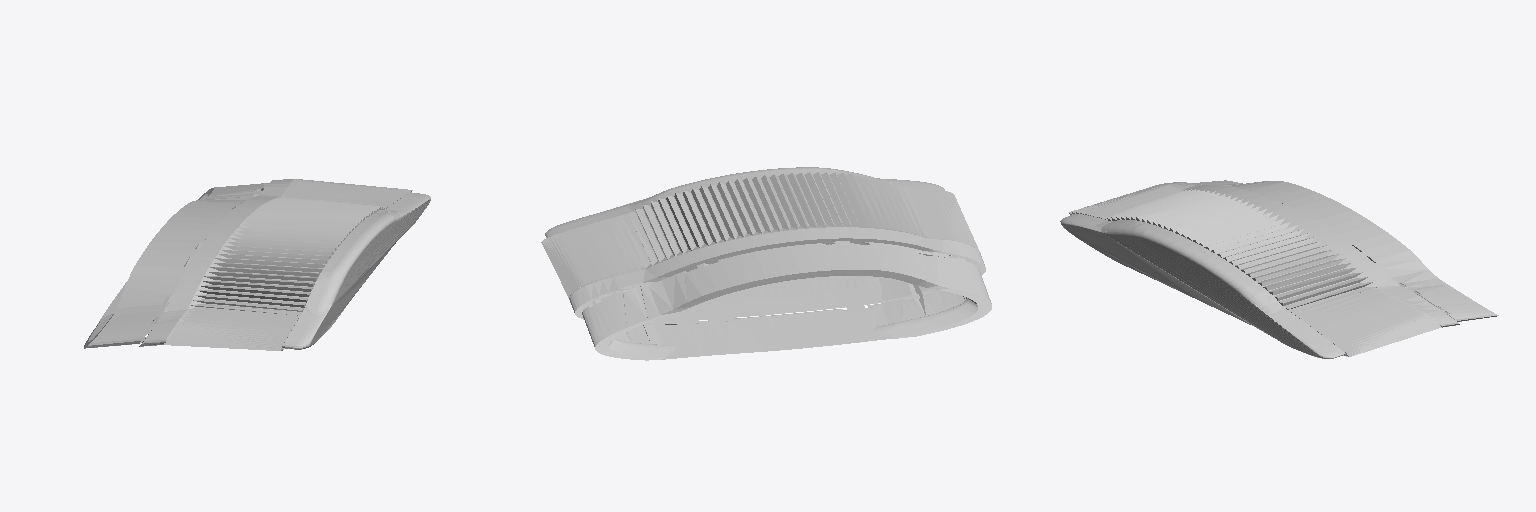
File: bottle_cap_short.003.obj
The picture shows the model from 3 angles: view 1: azimuth 30°, elevation 25°; view 2: azimuth 150°, elevation 25°; view 3: azimuth 270°, elevation 25°; orthographic projection.
Parts seen in each view (by area): view 1: bottle_cap_short.003; view 2: bottle_cap_short.003; view 3: bottle_cap_short.003.
Boxes of the visible parts, x1=… form: bottle_cap_short.003: x1=84, y1=179, x2=430, y2=350; bottle_cap_short.003: x1=541, y1=167, x2=991, y2=360; bottle_cap_short.003: x1=1060, y1=180, x2=1498, y2=358.
Bounding box in the file's own units: 0.0341 × 0.0064 × 0.0329.